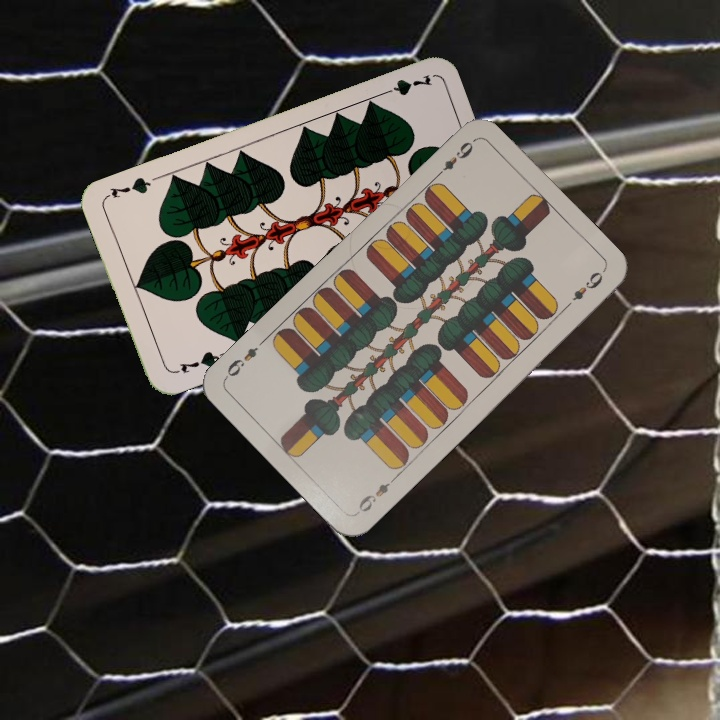E9: (431, 137, 476, 181), (354, 472, 400, 515)
G7: (375, 70, 435, 99), (169, 347, 226, 377)
